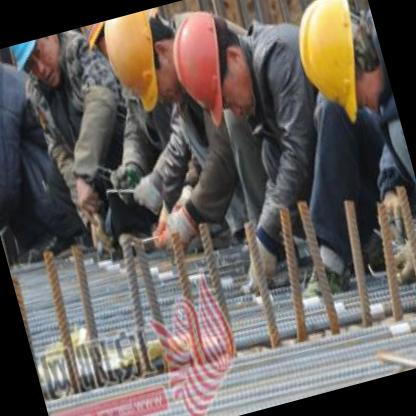bee: (156, 0, 258, 126), (282, 0, 386, 121), (99, 4, 191, 115), (78, 13, 147, 90), (2, 32, 74, 94)
